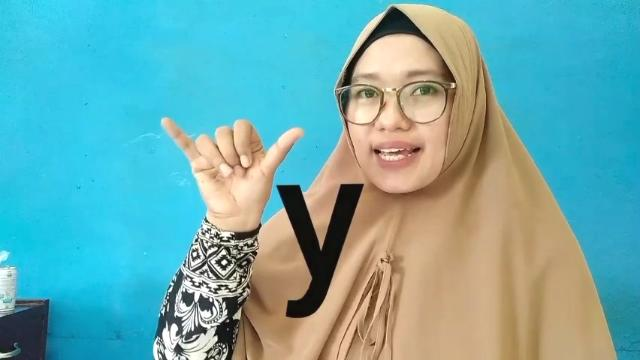Y: (157, 108, 305, 212)
